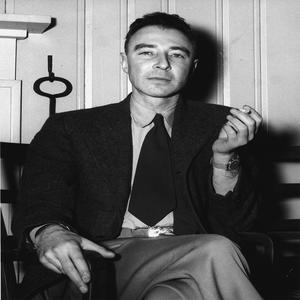cigarette: (237, 106, 254, 118)
